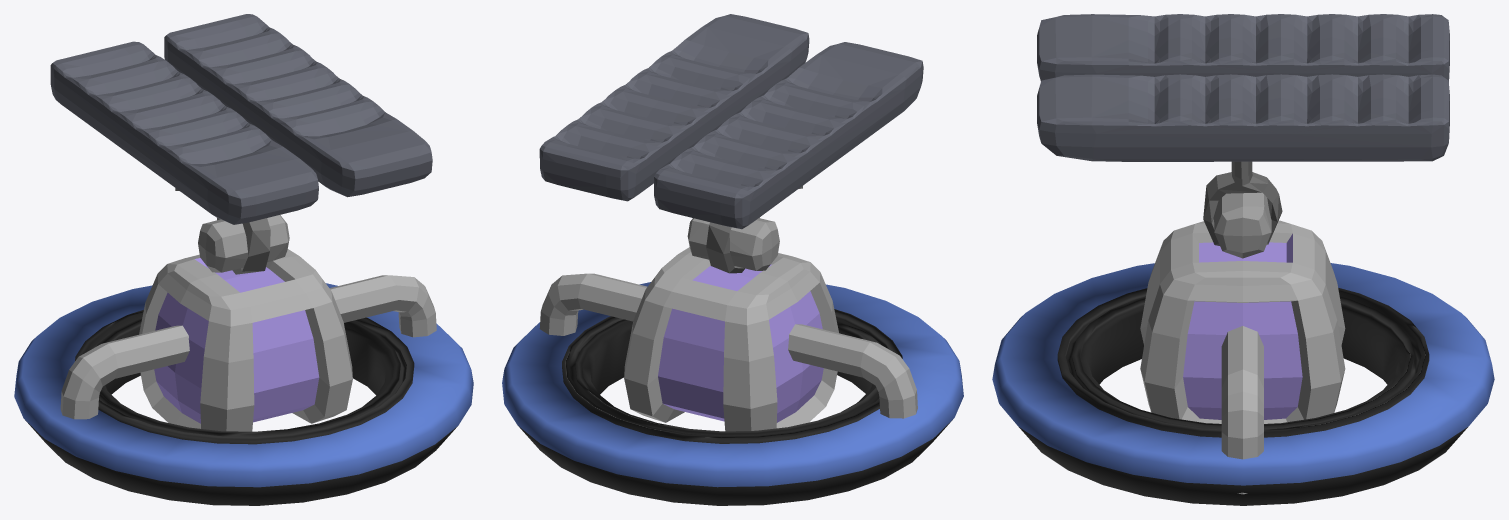
The model's file is rocketlauncher_level4.fbx.
The picture shows the model from 3 angles, left to right: view 1: azimuth 30°, elevation 25°; view 2: azimuth 150°, elevation 25°; view 3: azimuth 270°, elevation 25°; orthographic projection. The views are drawn at different scales.
Parts seen in each view (by area): view 1: ground.003, Cube, settlement_place.003, settlement_place.004, Cylinder, Cylinder.001, holder3.003, holder.003; view 2: ground.003, Cube, settlement_place.003, settlement_place.004, Cylinder, Cylinder.001, holder3.003, holder.003; view 3: ground.003, settlement_place.004, Cube, settlement_place.003, Cylinder.001, holder3.003, holder.003.
Boxes of the visible parts, x1,y1,x2,y2 form: ground.003: (14, 283, 473, 505); Cube: (139, 249, 352, 431); settlement_place.003: (50, 41, 318, 224); settlement_place.004: (164, 14, 432, 197); Cylinder: (60, 325, 189, 419); Cylinder.001: (329, 275, 436, 337); holder3.003: (198, 215, 289, 272); holder.003: (175, 188, 270, 274); ground.003: (502, 282, 963, 505); Cube: (624, 247, 838, 431); settlement_place.003: (654, 42, 923, 229); settlement_place.004: (539, 14, 809, 201); Cylinder: (788, 324, 917, 418); Cylinder.001: (539, 273, 647, 335); holder3.003: (687, 218, 779, 270); holder.003: (706, 186, 802, 273); ground.003: (992, 263, 1494, 505); settlement_place.004: (1037, 74, 1449, 161); Cube: (1140, 220, 1345, 423); settlement_place.003: (1037, 14, 1449, 81); Cylinder.001: (1221, 326, 1263, 494); holder3.003: (1214, 192, 1271, 258); holder.003: (1203, 161, 1282, 245).
Size of the model in its own units: 75.6 by 57.15 by 75.6.
